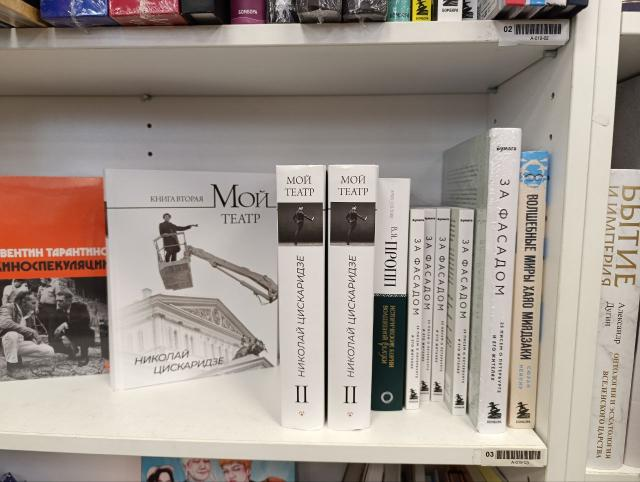book-s-spine: (586, 168, 640, 471), (327, 164, 380, 431), (477, 128, 523, 434), (276, 164, 327, 433), (509, 150, 549, 430), (371, 178, 411, 411), (451, 208, 475, 416), (405, 209, 425, 410), (431, 207, 451, 402), (420, 208, 437, 401)
